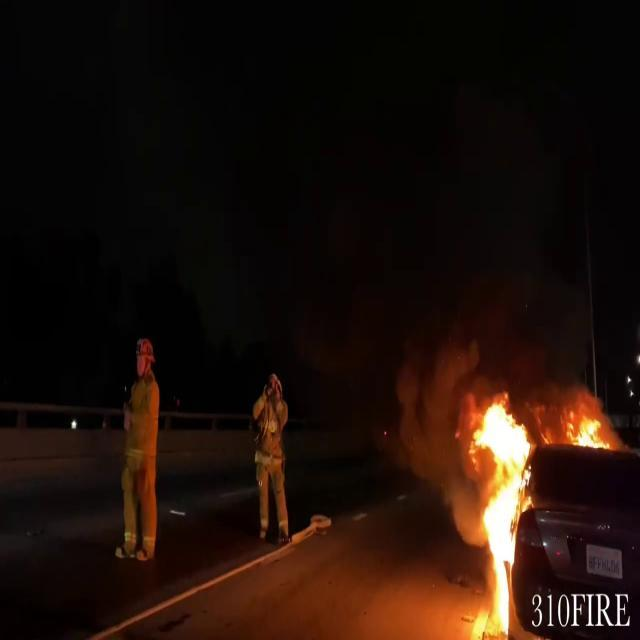Fire: (450, 394, 541, 636), (562, 406, 616, 454)
Smoke: (397, 318, 489, 472)
